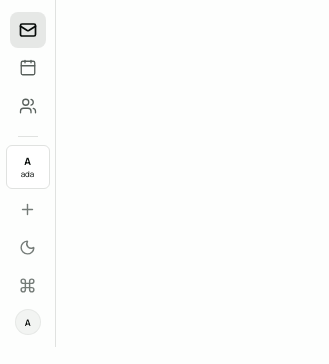
Test: AppRailNav › describes the current inbox in the desktop switcher tooltip
The image size is (329, 364).
Focus the heading named "Switch inbox. Current inbox: ada@ownmail.com": (28, 167) x1=6 y1=145 x2=50 y2=189
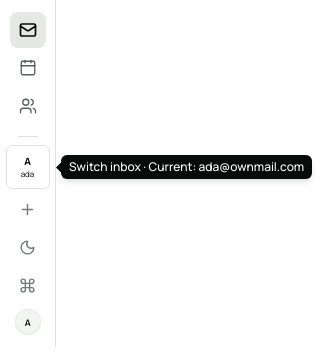
expect the tooltip "Switch inbox · Current: ada@ownmail.com" is shown: met, box x1=61 y1=155 x2=312 y2=179
